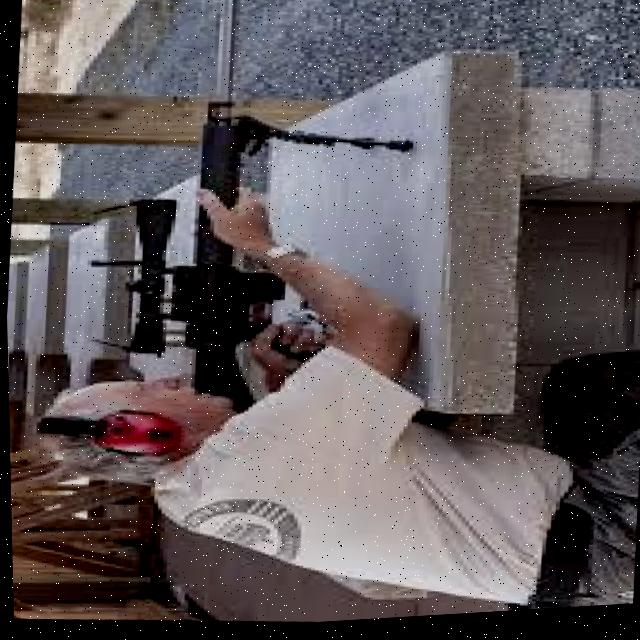firearm: (74, 0, 297, 417)
